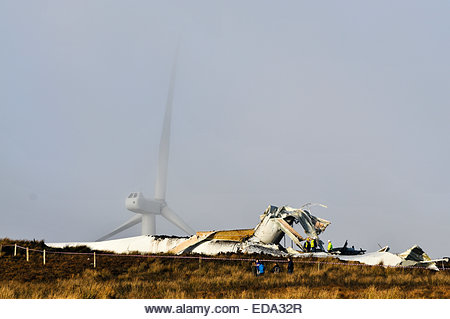faulty: (220, 200, 351, 244)
working: (115, 138, 189, 232)
